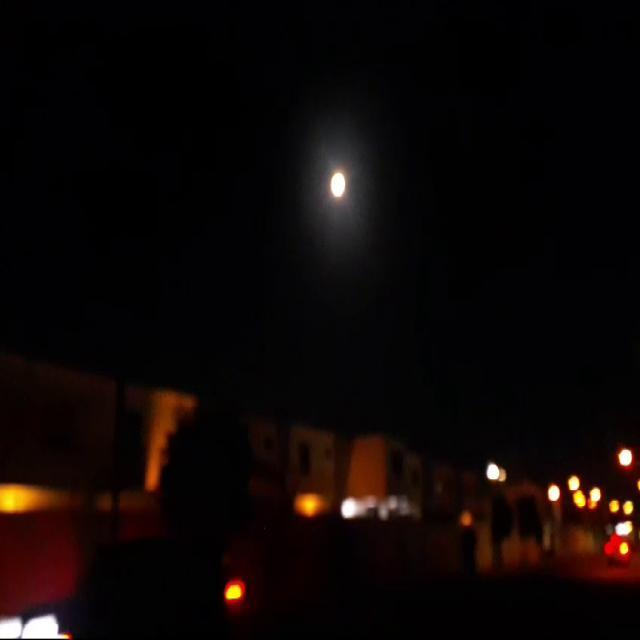moon: (325, 168, 345, 202)
